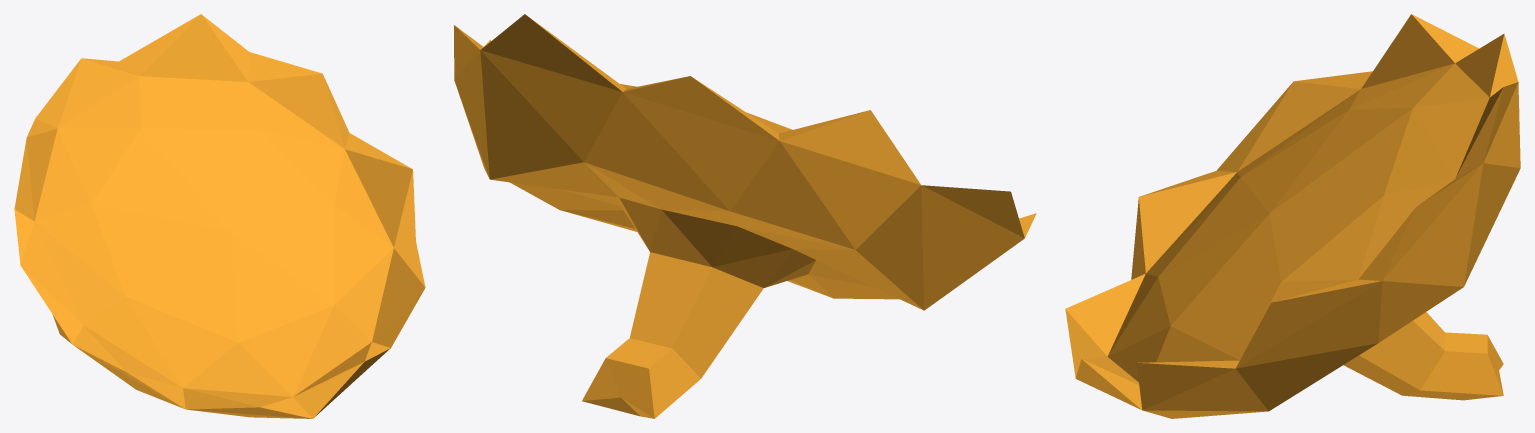
File: SM_Sunflower_Head_A.fbx
3 renders of one model, left to right at view 1: azimuth 30°, elevation 25°; view 2: azimuth 150°, elevation 25°; view 3: azimuth 270°, elevation 25°, orthographic. The views are drawn at different scales.
Visible parts, largest first — view 1: sunflower-head-a; view 2: sunflower-head-a; view 3: sunflower-head-a.
Boxes of the visible parts, left/top/right/bottom form: sunflower-head-a: left=14, top=14, right=425, bottom=418; sunflower-head-a: left=454, top=14, right=1036, bottom=418; sunflower-head-a: left=1065, top=14, right=1520, bottom=418.
Size of the model in its own units: 0.2725 by 0.1934 by 0.2253.
